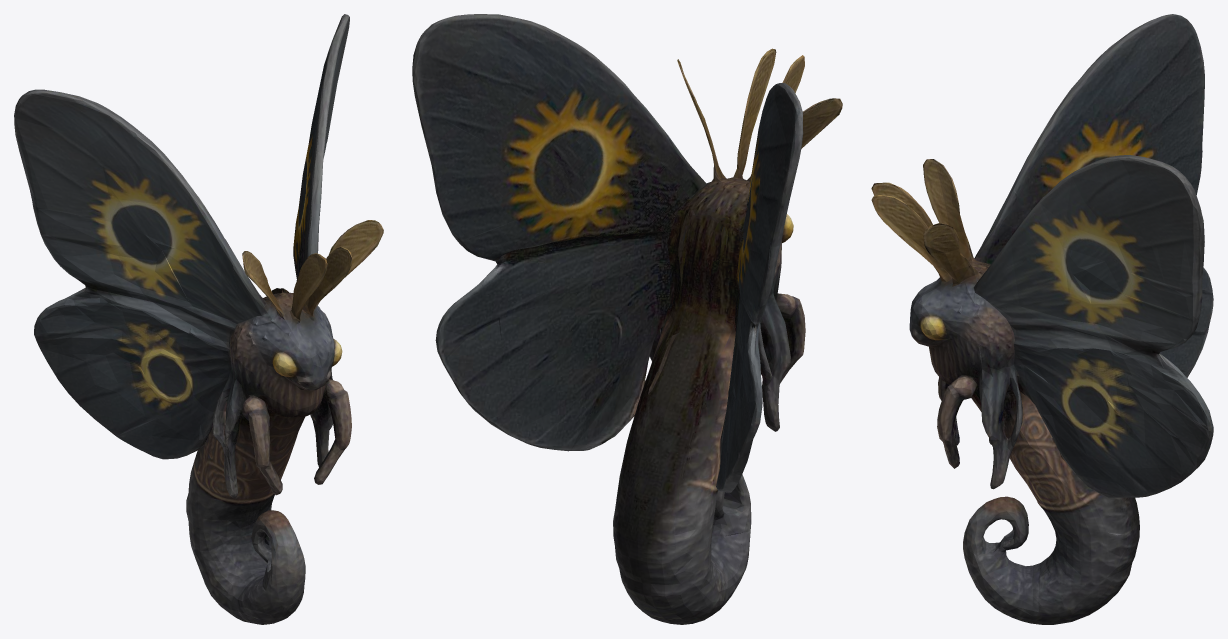
File: eclipseMoth.glb
3 views of the same model, side by side, from view 1: azimuth 30°, elevation 25°; view 2: azimuth 150°, elevation 25°; view 3: azimuth 270°, elevation 25° (orthographic). The views are drawn at different scales.
Visible parts, largest first — view 1: world; view 2: world; view 3: world.
Part boxes in pixels (box(x1,y1,x2,y2)): world: box(14, 14, 383, 624); world: box(412, 14, 842, 624); world: box(871, 14, 1213, 624).
Bounding box in the file's own units: 0.6673 × 1 × 0.5837.
1 material, 1 textured.
